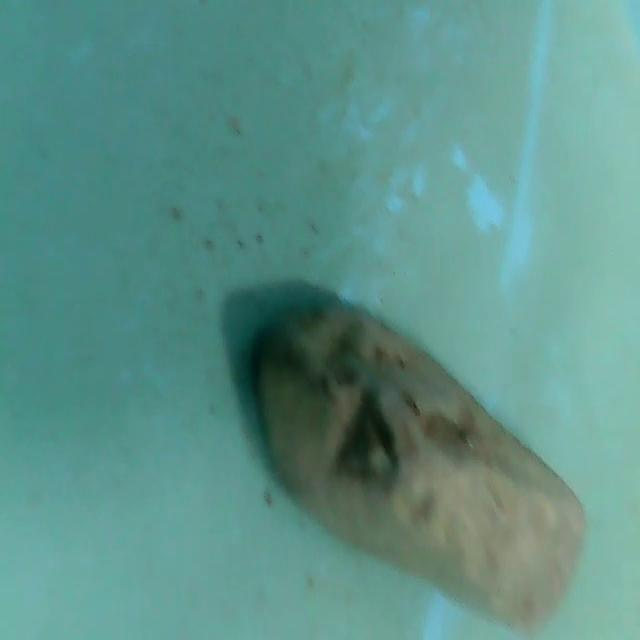rock: (239, 278, 595, 640)
